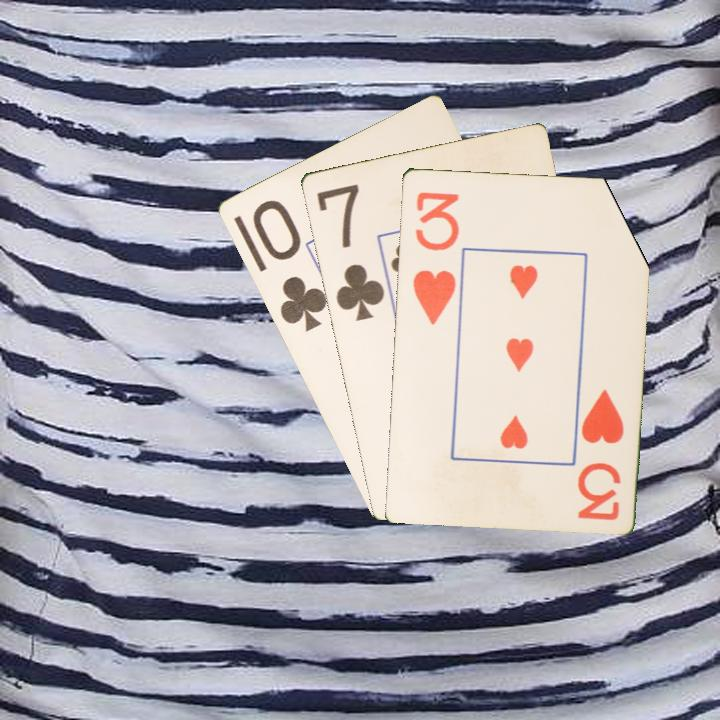10c: (248, 195, 330, 335)
3h: (408, 187, 461, 327), (573, 385, 626, 523)
7c: (312, 180, 387, 324)
